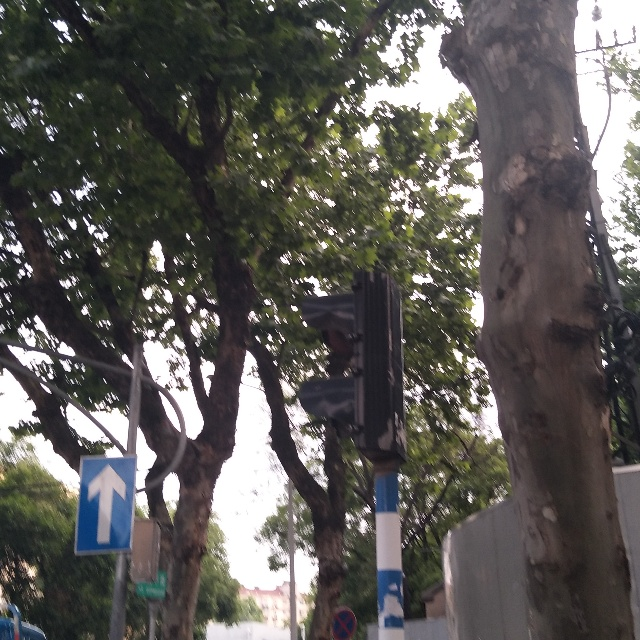straight: (84, 459, 126, 547)
